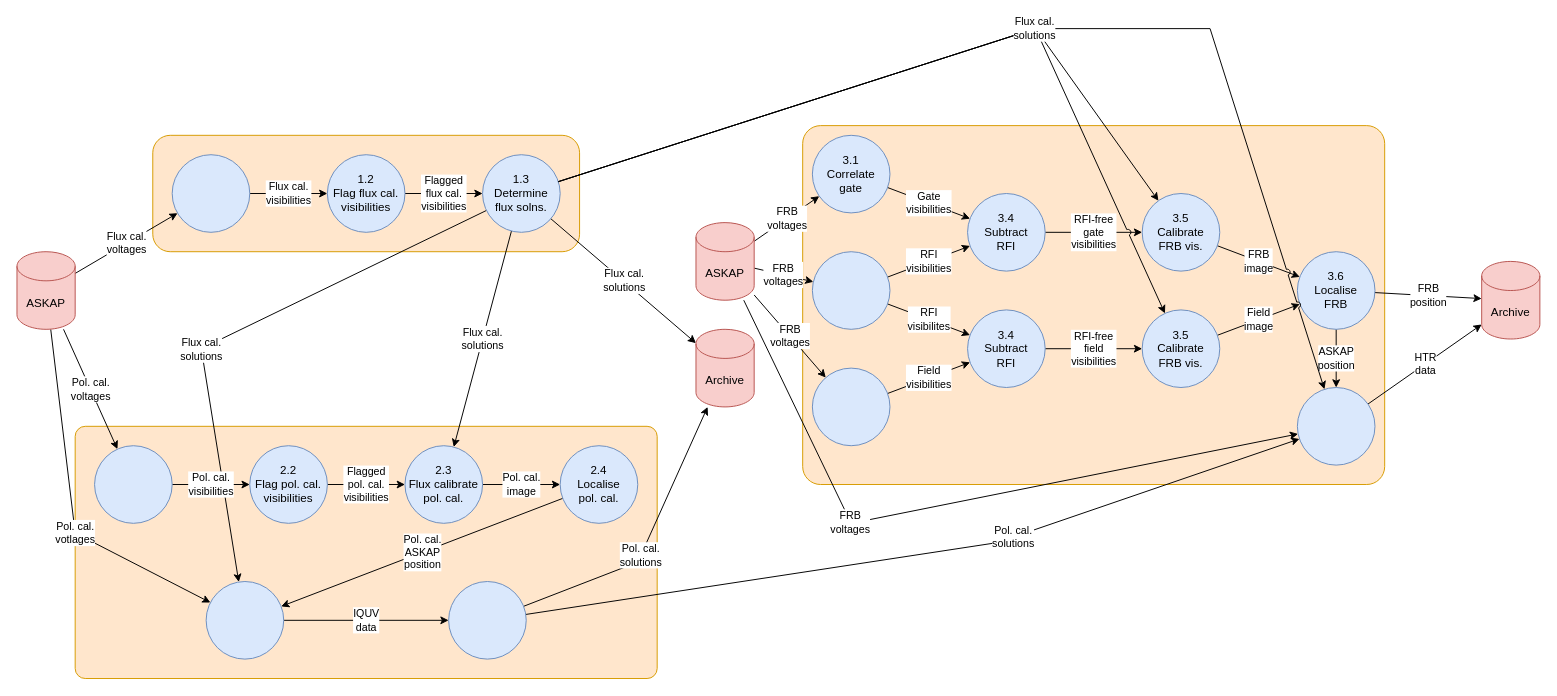
The diagram is 1557 pixels wide and 696 high, and some of its shapes have lost their labels. Each missing label, with the centre of its shape:
1.1 Correlate flux cal.: the point at 210,193
2.1 Correlate pol. cal.: the point at 133,484
2.4 Determine pol. solns.: the point at 487,620
2.5 Beamform pol. cal.: the point at 244,620
3.2 Correlate RFI: the point at 850,290
3.3 Correlate field: the point at 850,406
3.7 Beamform FRB: the point at 1335,426
